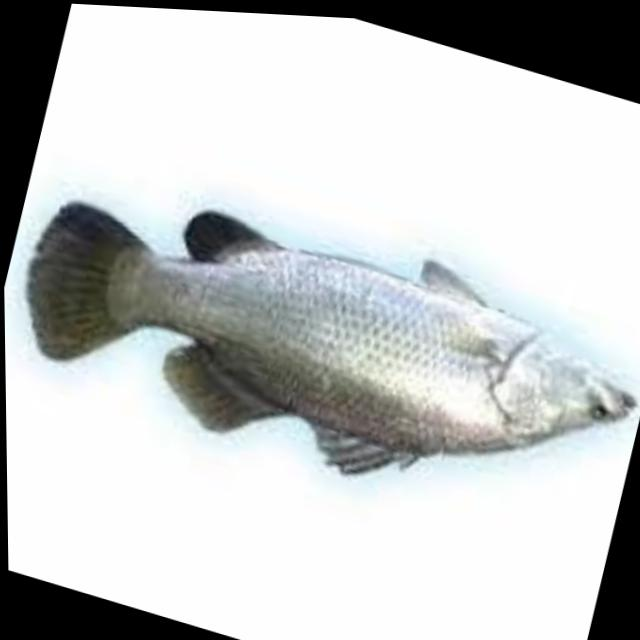Seabass: (2, 143, 640, 554)
